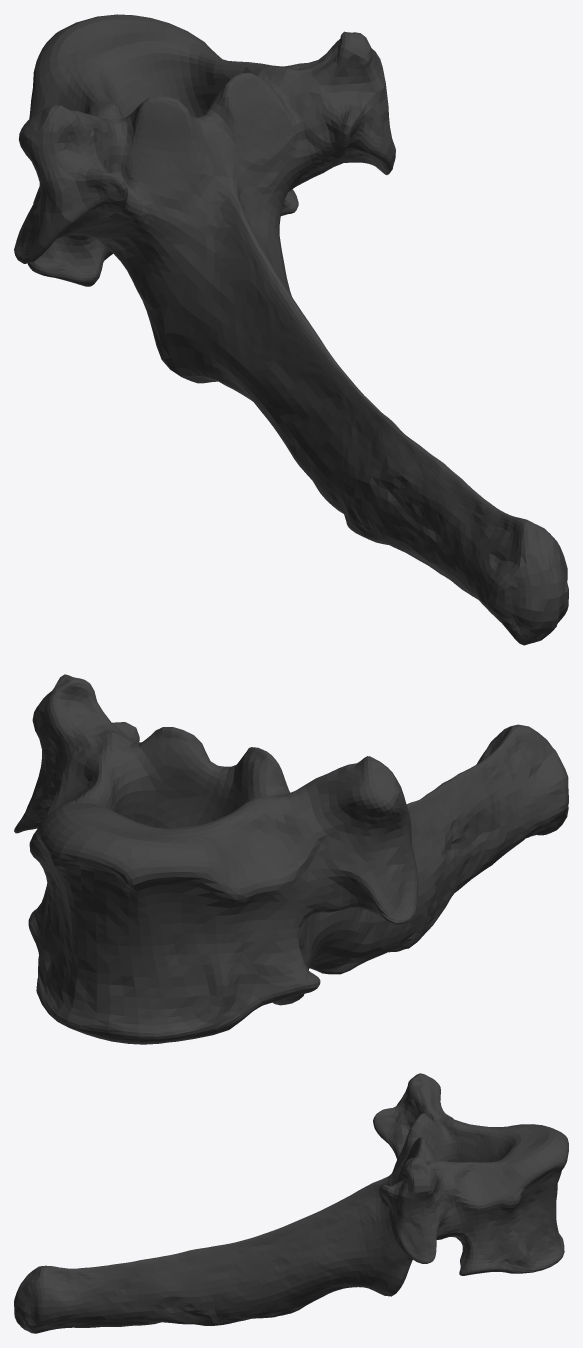
3 views of the same model, one above another, from view 1: azimuth 30°, elevation 25°; view 2: azimuth 150°, elevation 25°; view 3: azimuth 270°, elevation 25° (orthographic). The views are drawn at different scales.
Visible parts, largest first — view 1: t3_low; view 2: t3_low; view 3: t3_low.
Boxes of the visible parts, left/top/right/bottom form: t3_low: left=14, top=14, right=568, bottom=645; t3_low: left=14, top=674, right=568, bottom=1044; t3_low: left=14, top=1073, right=568, bottom=1333.
Size of the model in its own units: 38.17 by 34.08 by 80.41.
Materials: 1 (1 with a texture image).
